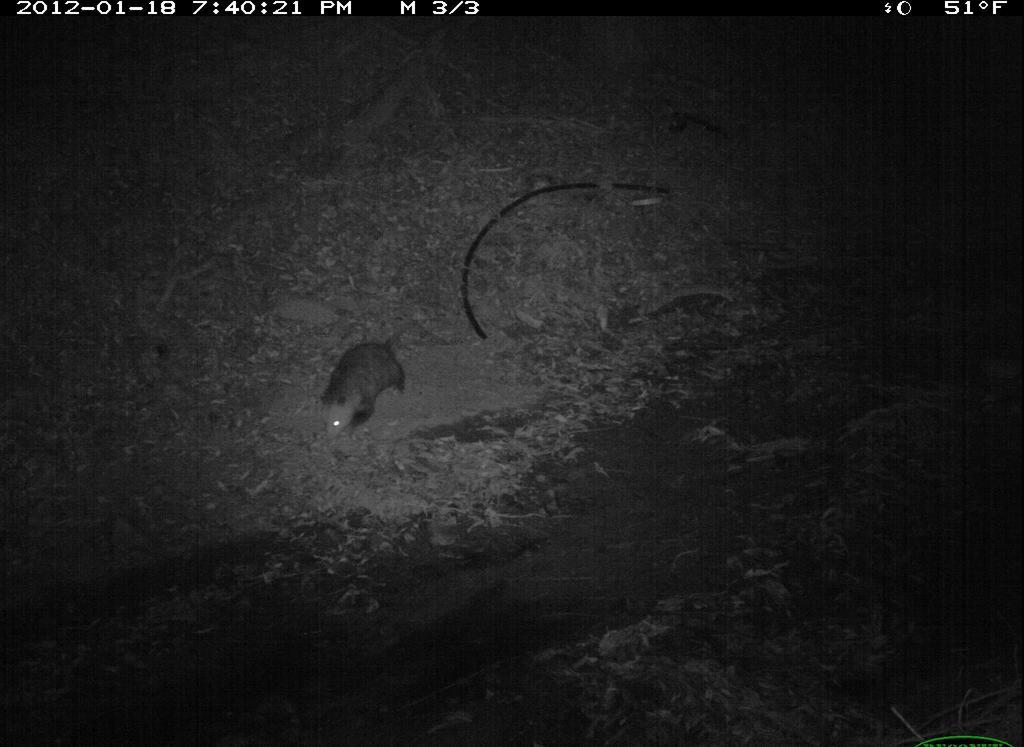opossum: (287, 308, 442, 456)
